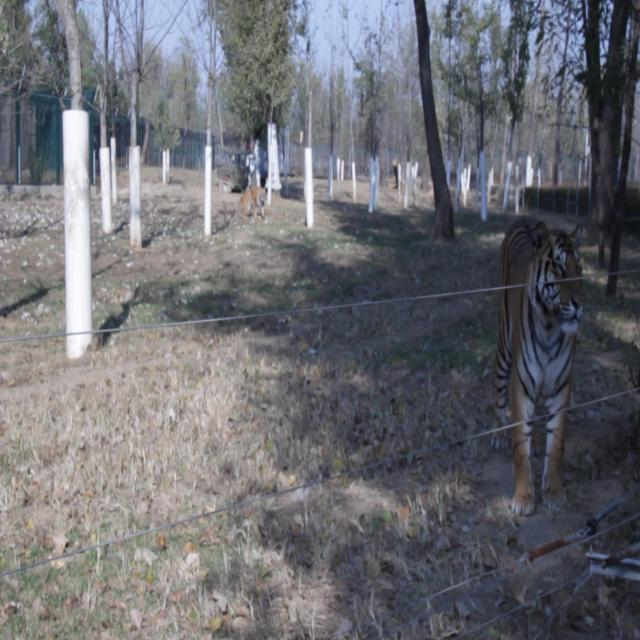Tiger: (484, 203, 592, 534)
